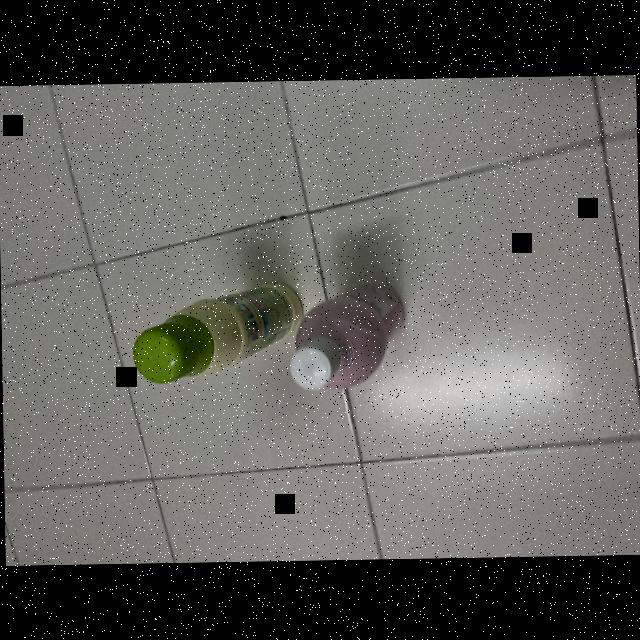chemical_plastic_bottle: (125, 278, 301, 388), (280, 277, 410, 398)
